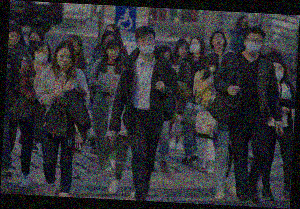mask_weared_incorrect: (139, 36, 156, 56), (33, 47, 50, 66), (272, 64, 286, 81)
with_mask: (245, 36, 264, 56), (188, 40, 203, 56), (27, 35, 43, 49), (208, 63, 218, 74)
without_mask: (56, 52, 73, 69), (8, 32, 22, 47), (211, 34, 226, 48), (106, 47, 120, 60), (176, 45, 189, 58), (70, 43, 82, 55)
